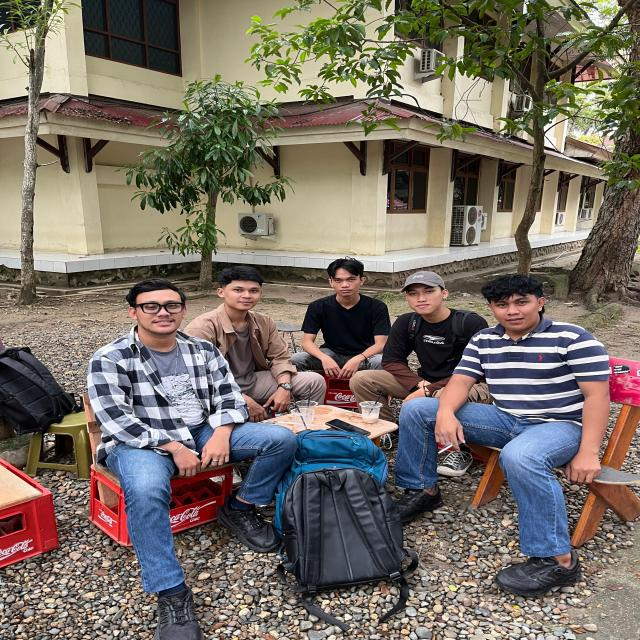nohelmet: (120, 274, 192, 346), (480, 272, 552, 338), (394, 261, 457, 323), (210, 266, 270, 321), (321, 256, 372, 304)
